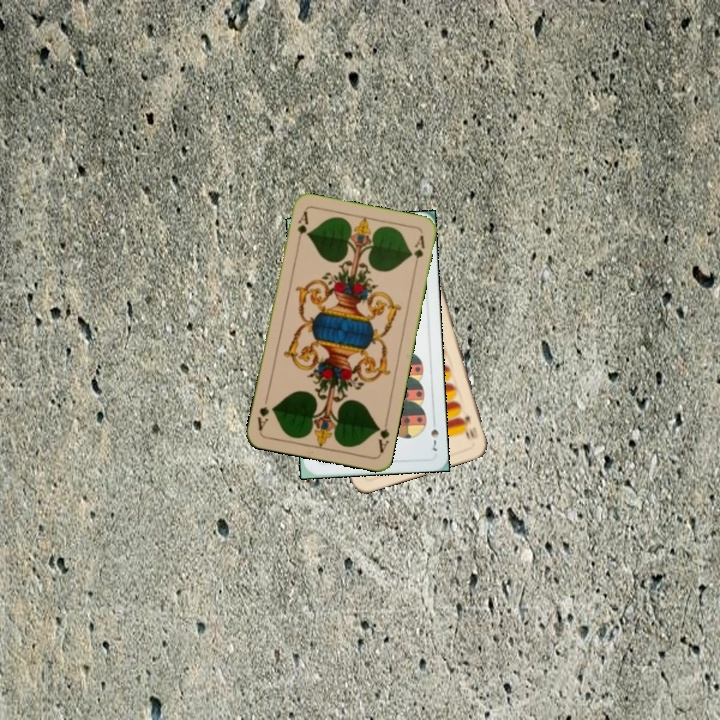E10: (460, 411, 481, 441)
GA: (373, 415, 392, 456), (293, 207, 311, 247)
S7: (427, 414, 441, 454)
